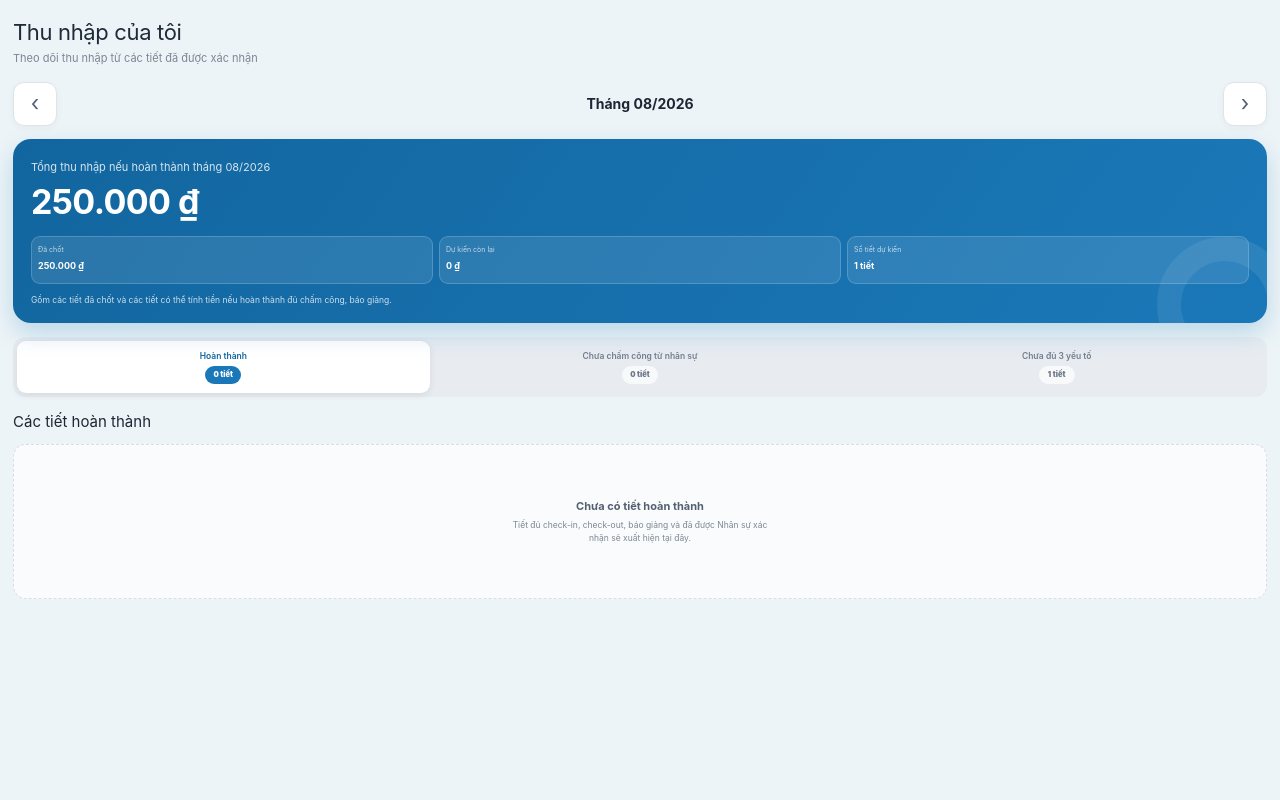
Test: TeacherIncomeScreen › mở form báo giảng từ thẻ tiết thiếu báo giảng trong doanh thu
Click the tab "Chưa đủ 3 yếu tố 1 tiết": click(1057, 367) x1=850 y1=341 x2=1263 y2=393
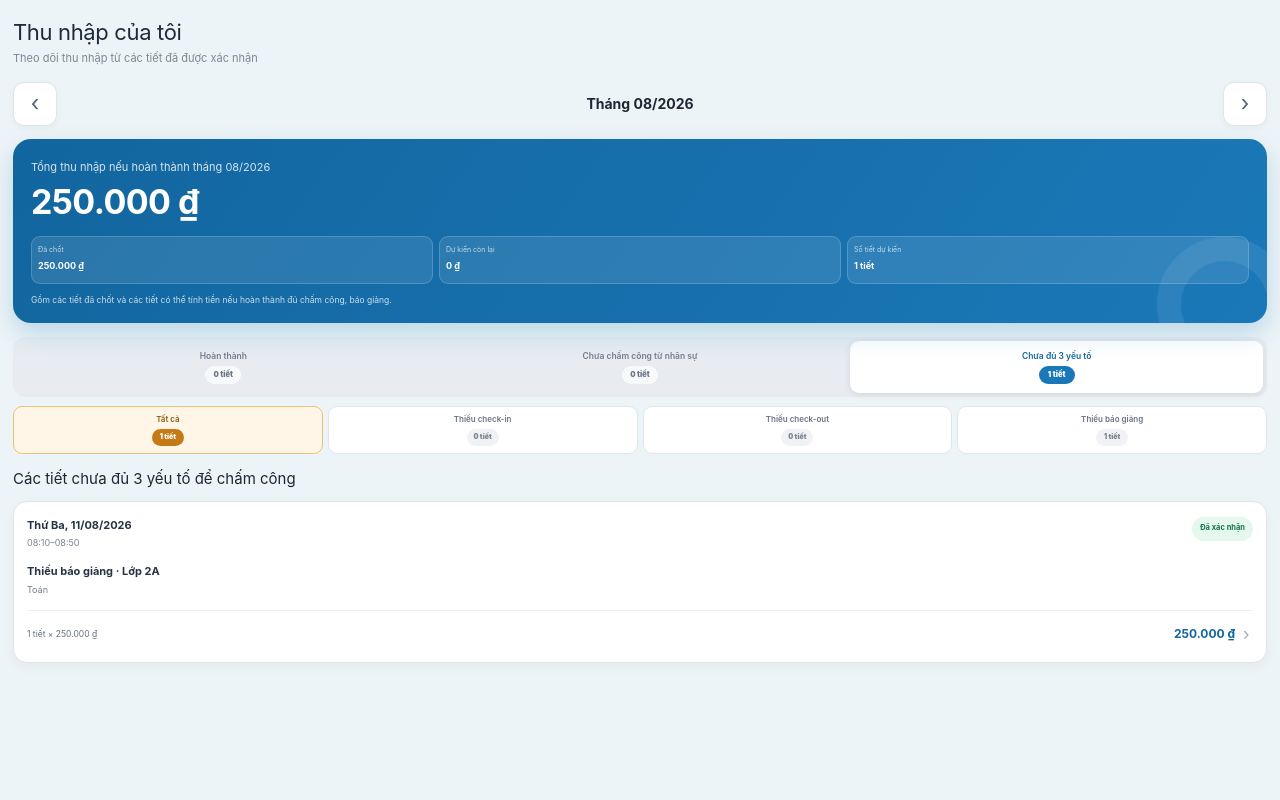
Click the button with aria-label "Xem chi tiết thu nhập ngày 11/08/2026": click(640, 582) x1=13 y1=501 x2=1267 y2=663
(page scrolled)
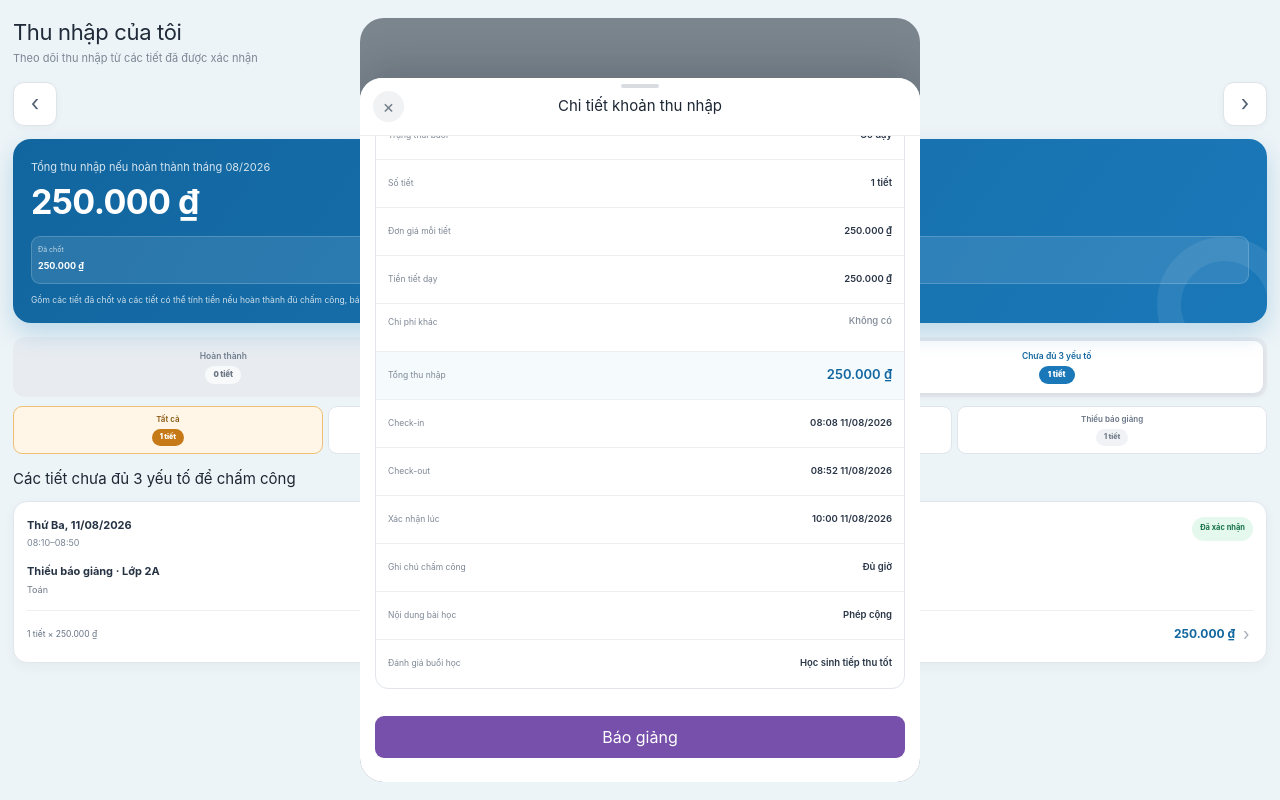
Check: the button "Báo giảng" is shown
Click the button "Báo giảng": click(640, 736) x1=375 y1=716 x2=905 y2=758
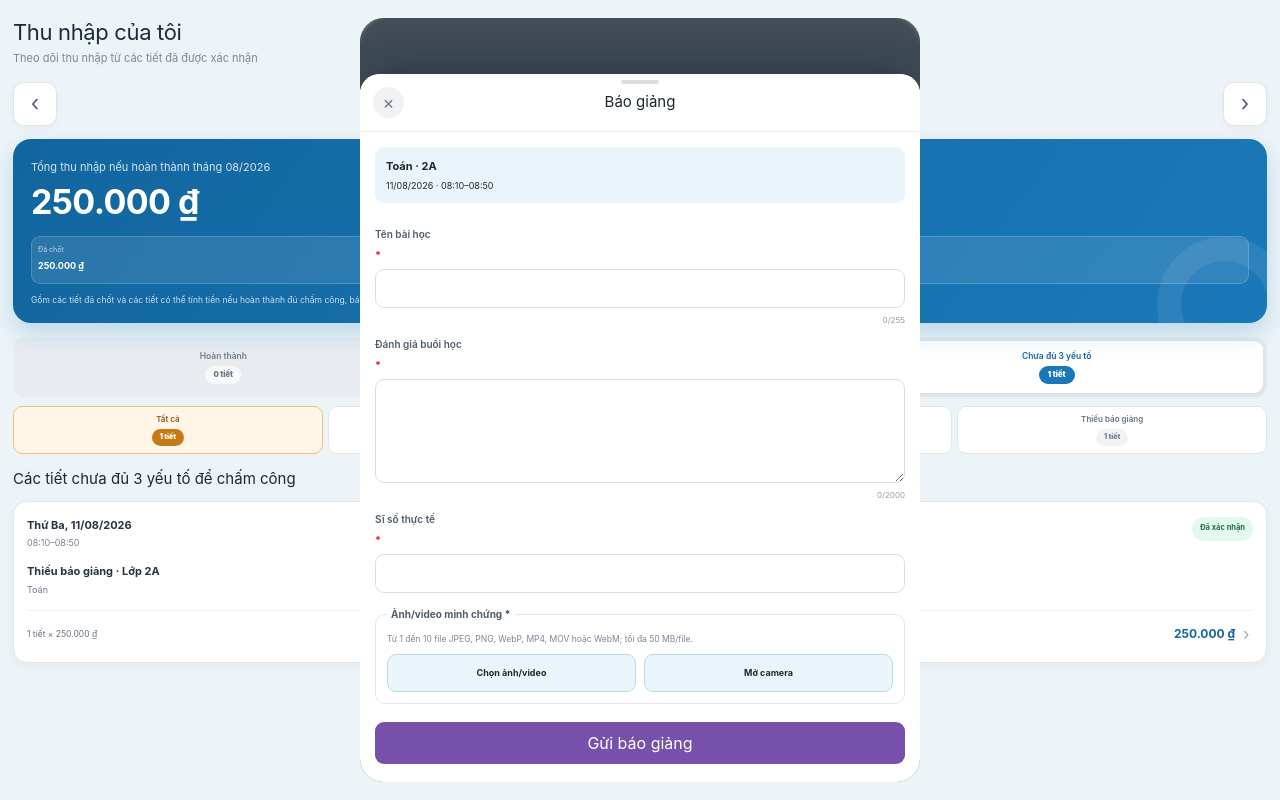
Check: the dialog "Báo giảng" is shown, box x1=360 y1=74 x2=920 y2=782
